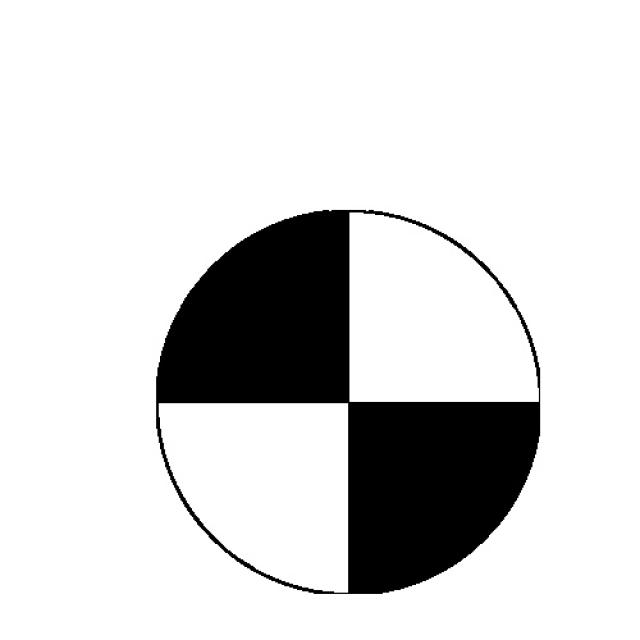Marcadores: (155, 211, 541, 595)
